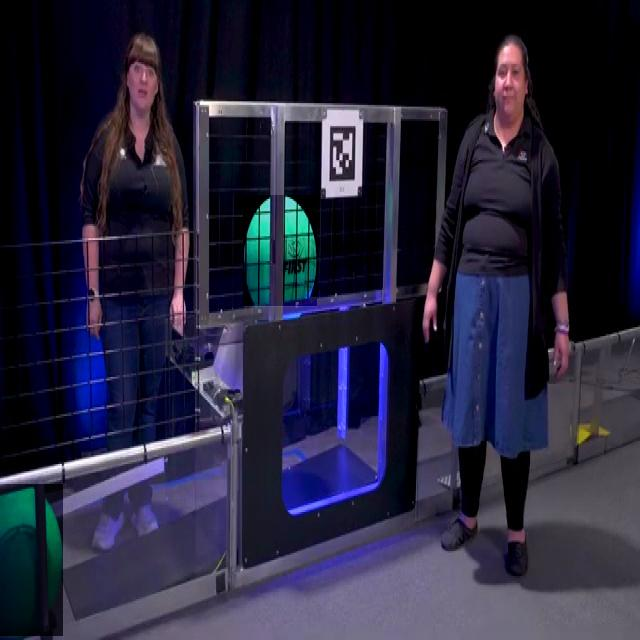Algae: (0, 484, 63, 636), (243, 195, 317, 308)
